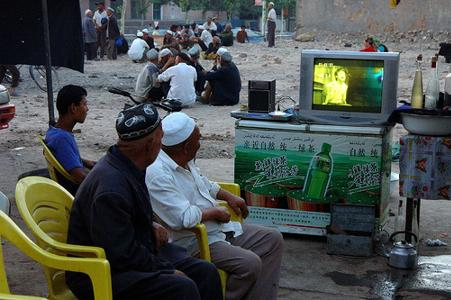person: (146, 112, 283, 300)
